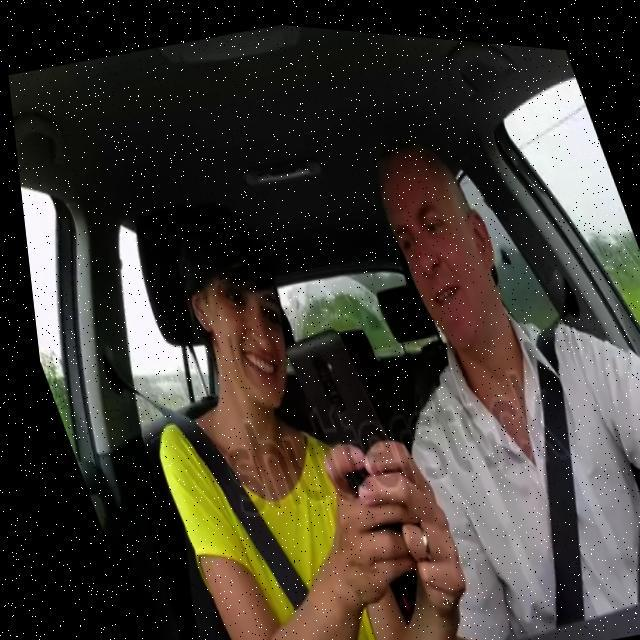PhoneCall: (272, 318, 423, 554)
